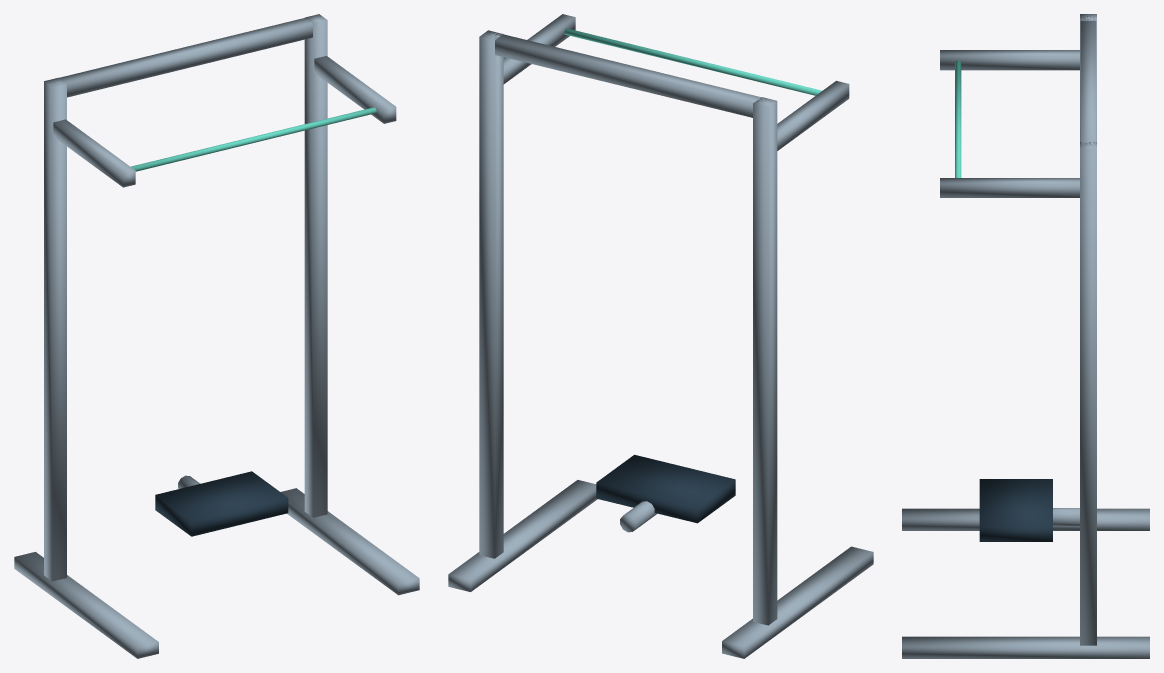
The model's file is assisted_tower.glb.
3 views of the same model, side by side, from view 1: azimuth 30°, elevation 25°; view 2: azimuth 150°, elevation 25°; view 3: azimuth 270°, elevation 25° (orthographic). The views are drawn at different scales.
Parts seen in each view (by area): view 1: tower, base, platform_pad, pullup_bar; view 2: tower, base, platform_pad, pullup_bar, platform_carriage; view 3: tower, base, platform_pad, pullup_bar, platform_carriage.
Boxes of the visible parts, x1=… form: tower: x1=44, y1=14, x2=396, y2=581; base: x1=14, y1=488, x2=419, y2=658; platform_pad: x1=155, y1=471, x2=288, y2=536; pullup_bar: x1=131, y1=107, x2=376, y2=171; tower: x1=479, y1=14, x2=849, y2=625; base: x1=448, y1=480, x2=873, y2=658; platform_pad: x1=596, y1=454, x2=735, y2=523; pullup_bar: x1=564, y1=28, x2=821, y2=95; platform_carriage: x1=620, y1=501, x2=656, y2=532; tower: x1=940, y1=14, x2=1096, y2=645; base: x1=902, y1=508, x2=1149, y2=658; platform_pad: x1=979, y1=479, x2=1052, y2=541; pullup_bar: x1=955, y1=60, x2=961, y2=177; platform_carriage: x1=1053, y1=508, x2=1079, y2=525.
Bounding box in the file's own units: 1.25 × 2.15 × 0.95.
